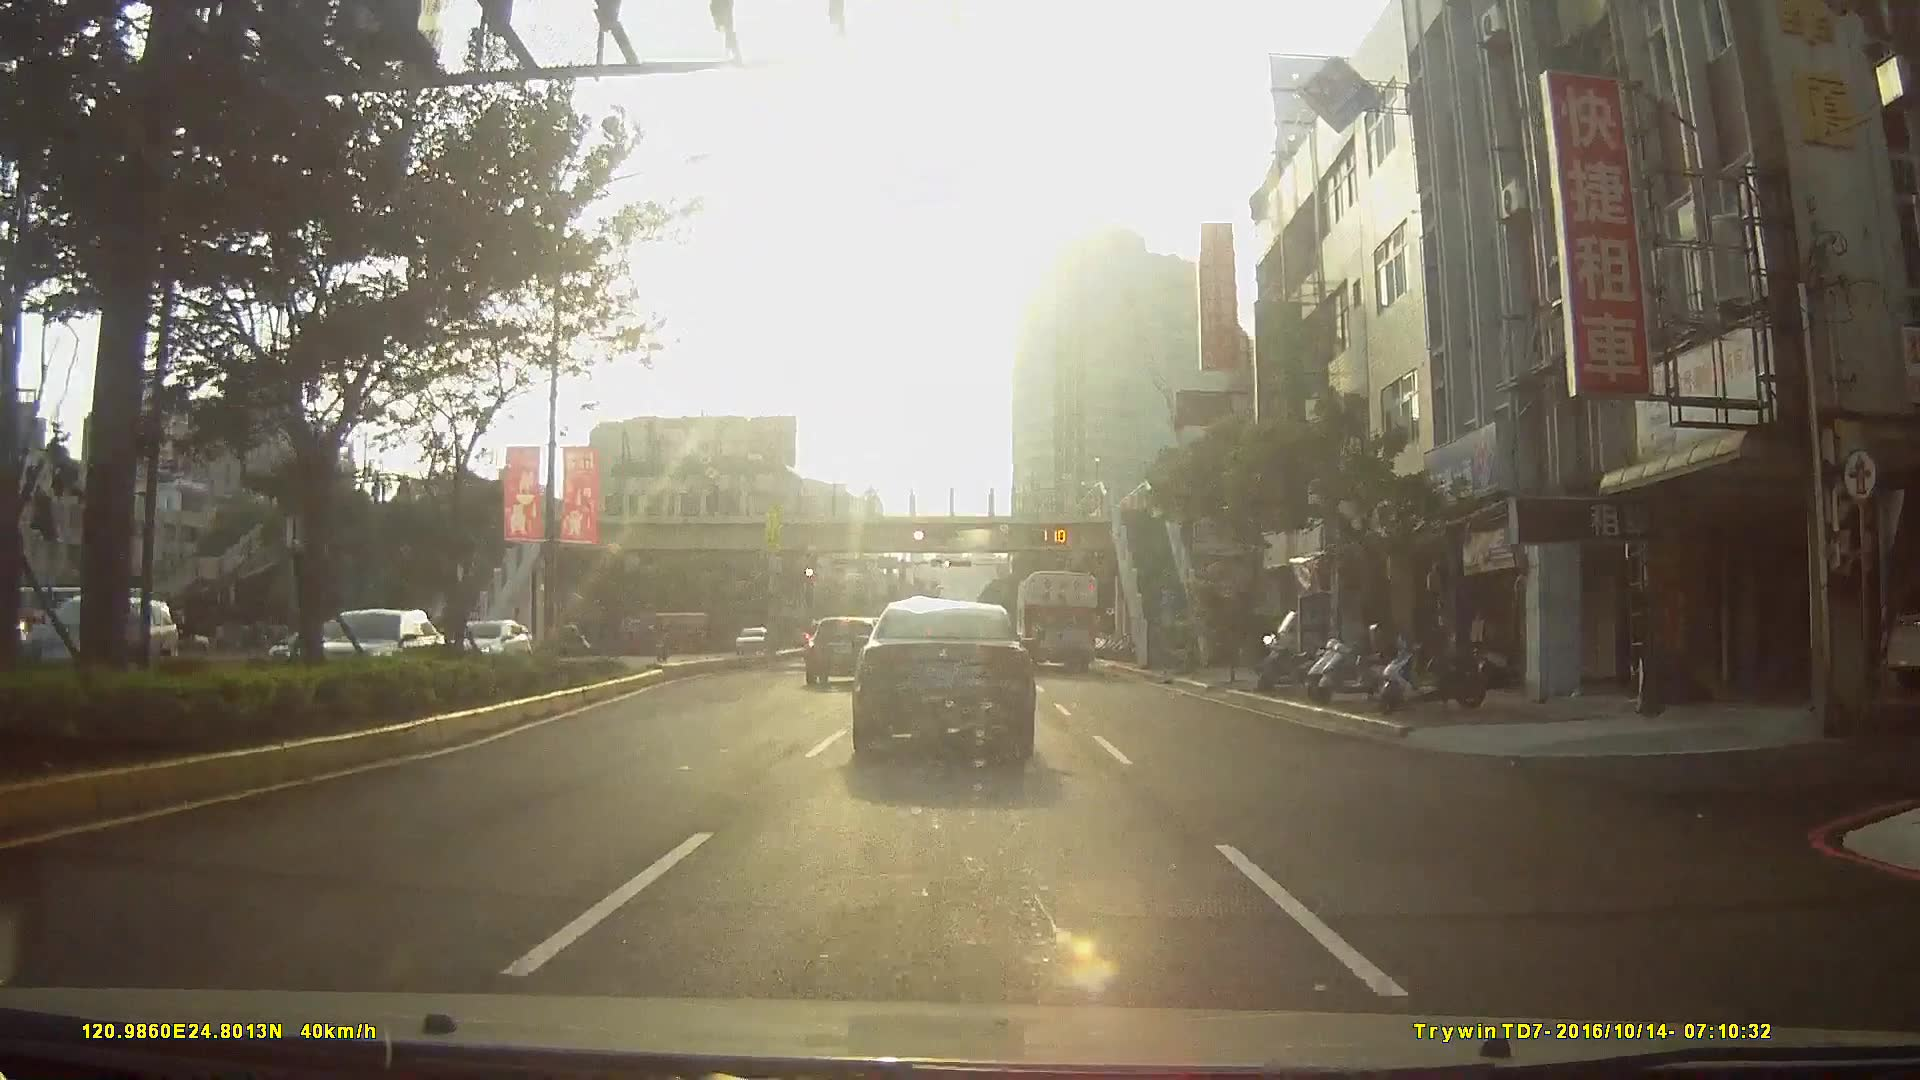vehicle: (851, 596, 1036, 754), (21, 585, 174, 674), (1013, 564, 1102, 669), (802, 613, 880, 687), (735, 622, 771, 651)
